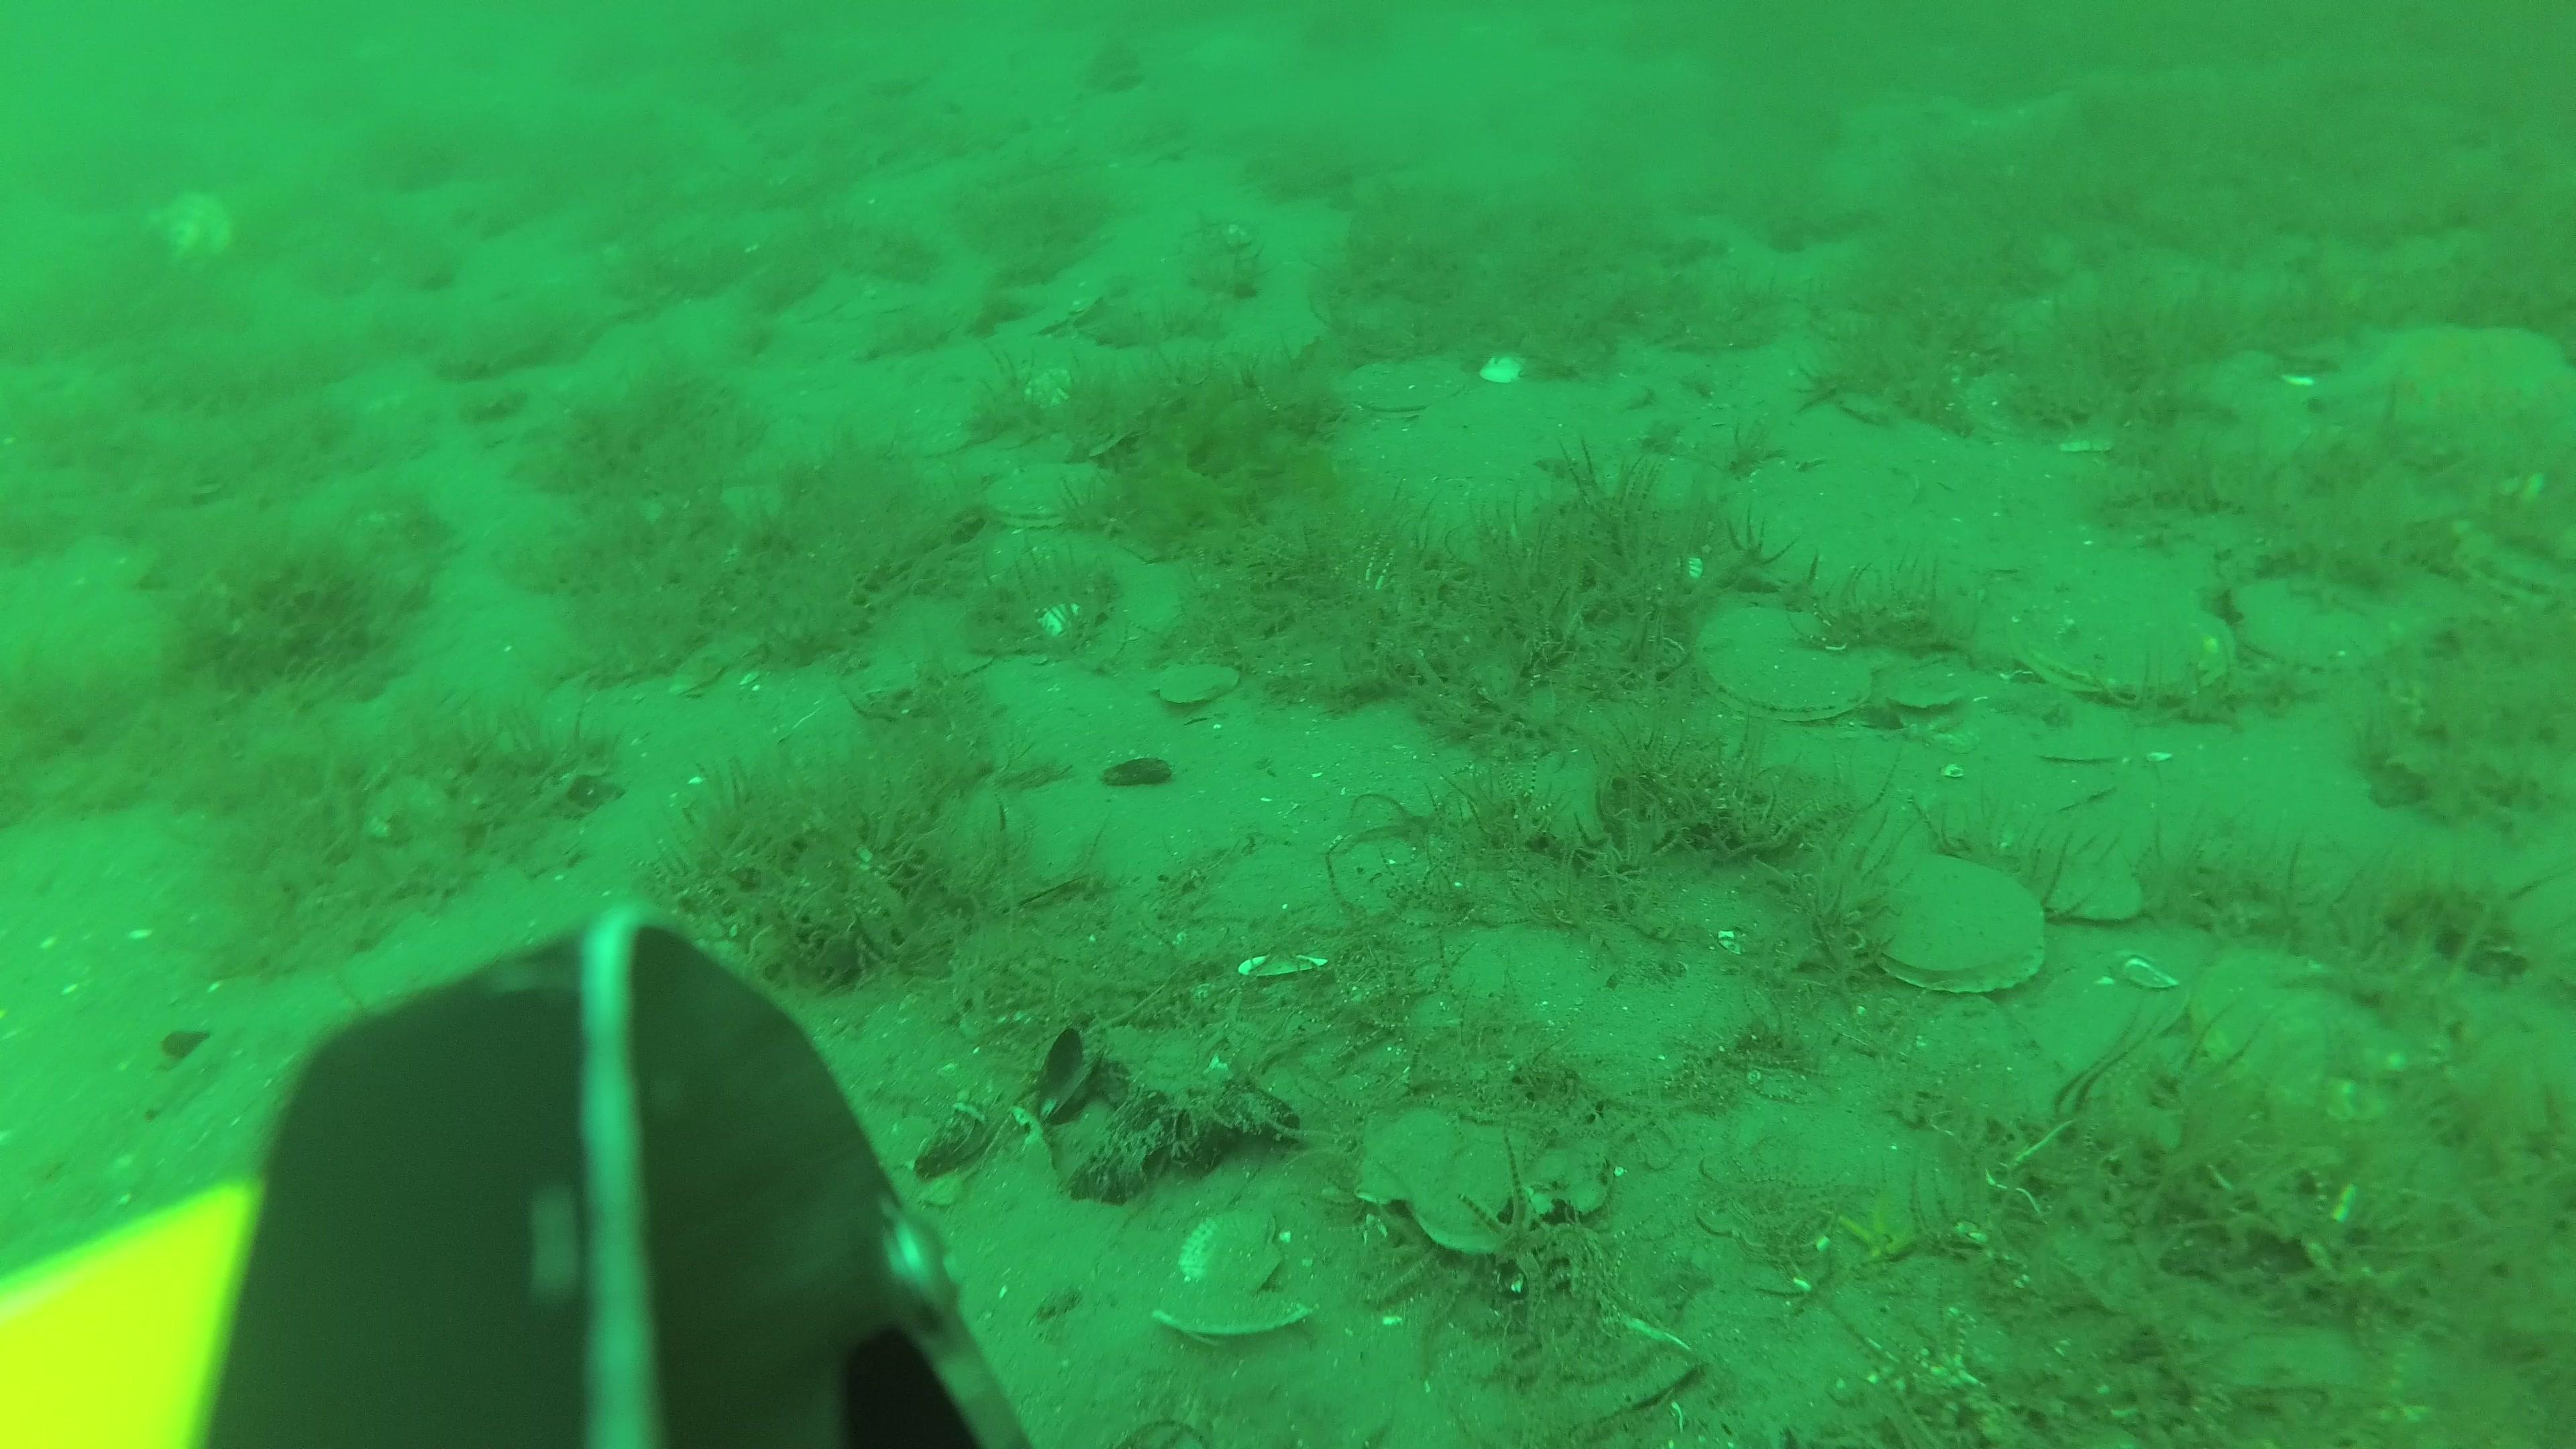scallop: (2192, 947, 2403, 1123), (1865, 853, 2047, 996), (2010, 589, 2231, 699), (1157, 1205, 1313, 1336), (1698, 603, 1870, 718), (2231, 582, 2396, 672), (2456, 527, 2576, 609), (985, 464, 1116, 531), (143, 193, 234, 283), (1346, 356, 1465, 418), (2052, 860, 2146, 922), (1152, 660, 1244, 709), (1893, 678, 1966, 727)
starfish: (2316, 324, 2576, 444)
